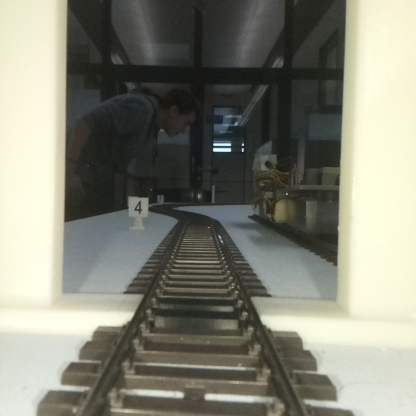white-stop-4: (129, 197, 148, 230)
